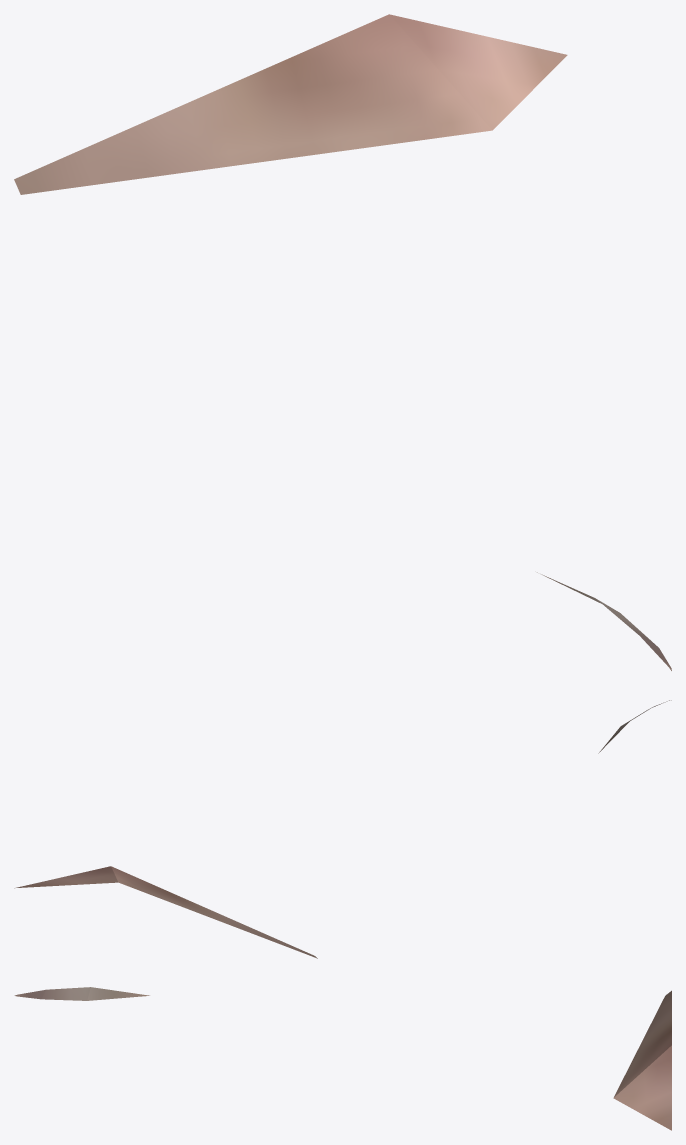
The picture shows the model from 3 angles, top to bottom: view 1: azimuth 30°, elevation 25°; view 2: azimuth 150°, elevation 25°; view 3: azimuth 270°, elevation 25°; orthographic projection. The views are drawn at different scales.
Bounding box in the file's own units: 0.0702 × 0.0102 × 0.1444.
1 material, 1 textured.
